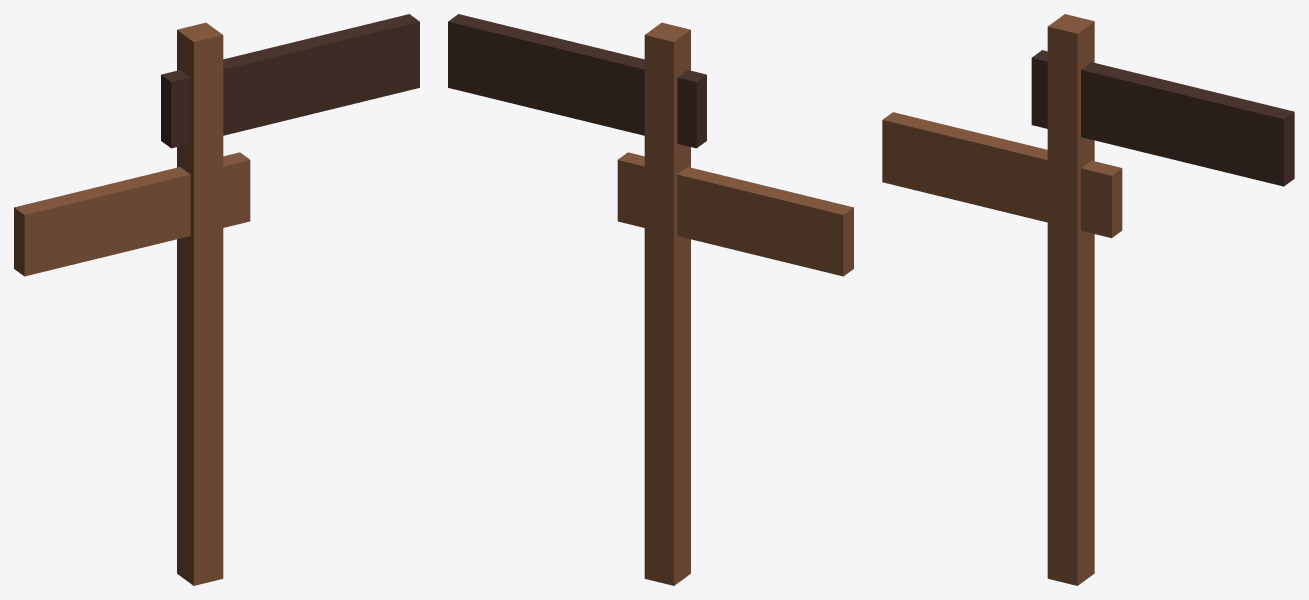
The model's file is signpost.glb.
3 views of the same model, side by side, from view 1: azimuth 30°, elevation 25°; view 2: azimuth 150°, elevation 25°; view 3: azimuth 330°, elevation 25° (orthographic).
Parts seen in each view (by area): view 1: pole, board_a, board_b; view 2: pole, board_a, board_b; view 3: pole, board_a, board_b.
Boxes of the visible parts, x1=… form: pole: x1=177, y1=22, x2=223, y2=585; board_a: x1=161, y1=14, x2=419, y2=148; board_b: x1=14, y1=152, x2=250, y2=276; pole: x1=644, y1=22, x2=690, y2=585; board_a: x1=448, y1=14, x2=706, y2=148; board_b: x1=617, y1=152, x2=853, y2=276; pole: x1=1047, y1=14, x2=1094, y2=585; board_a: x1=1031, y1=50, x2=1294, y2=186; board_b: x1=882, y1=112, x2=1122, y2=237.
Bounding box in the file's own units: 1.75 × 2.3 × 0.13.
